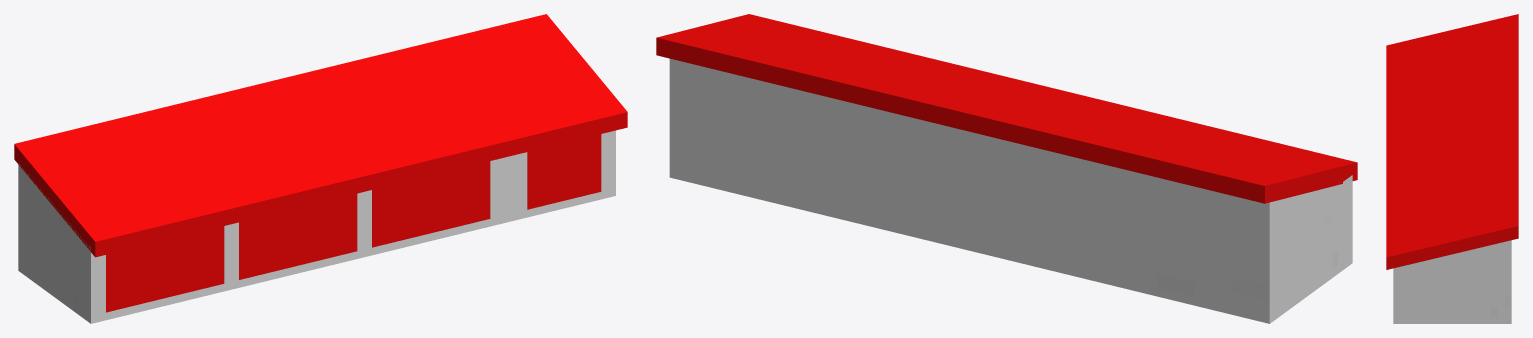
Rendered from Kopdes.glb.
3 views of the same model, side by side, from view 1: azimuth 30°, elevation 25°; view 2: azimuth 150°, elevation 25°; view 3: azimuth 270°, elevation 25° (orthographic). The views are drawn at different scales.
Visible parts, largest first — view 1: group_5, group2_12; view 2: group2_12, group_5; view 3: group_5, group2_12.
Boxes of the visible parts, x1,y1,x2,y2 form: group_5: (14,14,627,312); group2_12: (18,130,615,323); group2_12: (669,58,1352,323); group_5: (656,14,1357,203); group_5: (1386,14,1518,269); group2_12: (1393,240,1511,323).
Bounding box in the file's own units: 4.5 × 1 × 1.19.
Materials: 1 (1 with a texture image).
